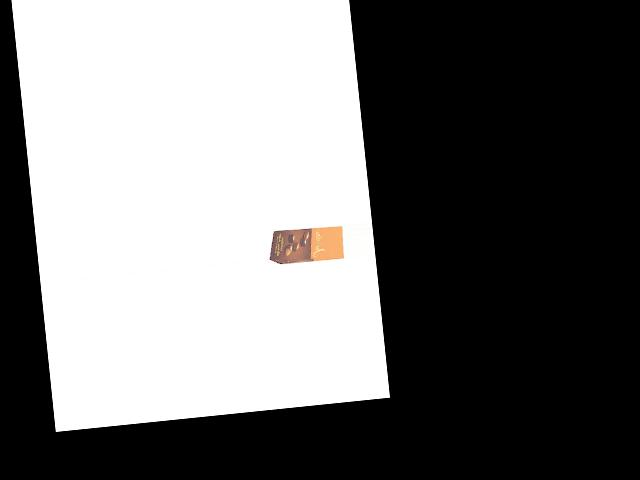chocolate: (267, 220, 345, 267)
